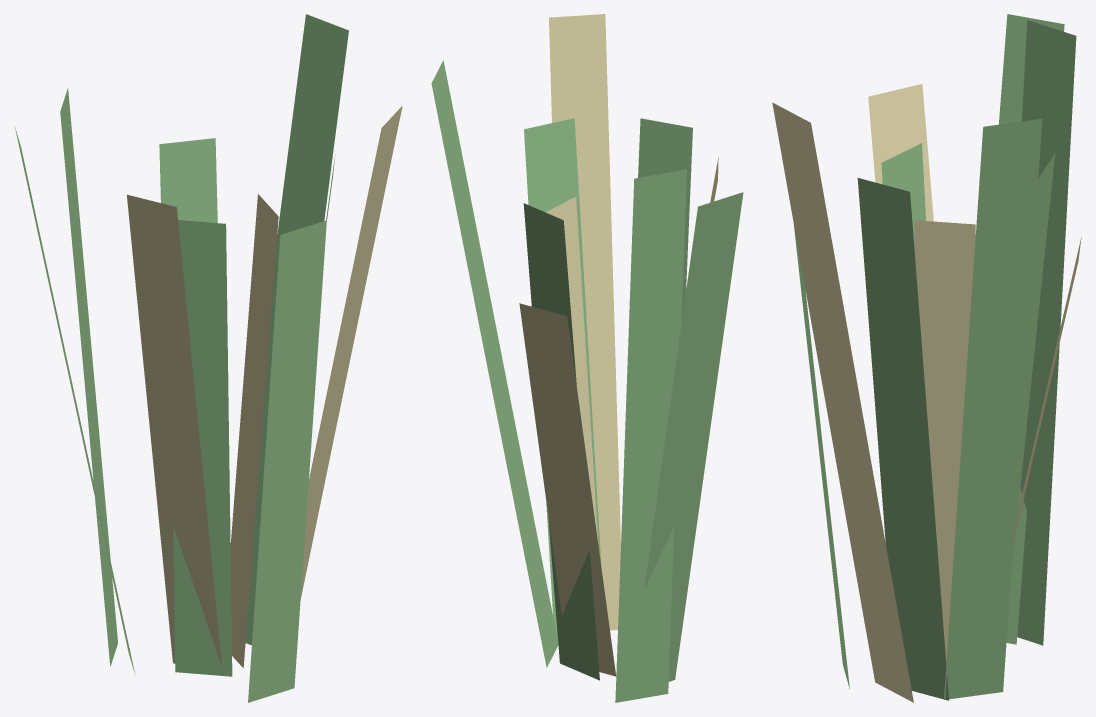
Rendered from plant_reeds_a.glb.
3 renders of one model, left to right at view 1: azimuth 30°, elevation 25°; view 2: azimuth 150°, elevation 25°; view 3: azimuth 270°, elevation 25°, orthographic. The views are drawn at different scales.
Parts seen in each view (by area): view 1: plant_reeds_a; view 2: plant_reeds_a; view 3: plant_reeds_a.
Boxes of the visible parts, x1,y1,x2,y2 form: plant_reeds_a: (14,14,402,702); plant_reeds_a: (431,14,743,702); plant_reeds_a: (772,14,1081,702).
Bounding box in the file's own units: 1.26 × 2.22 × 0.9956.
